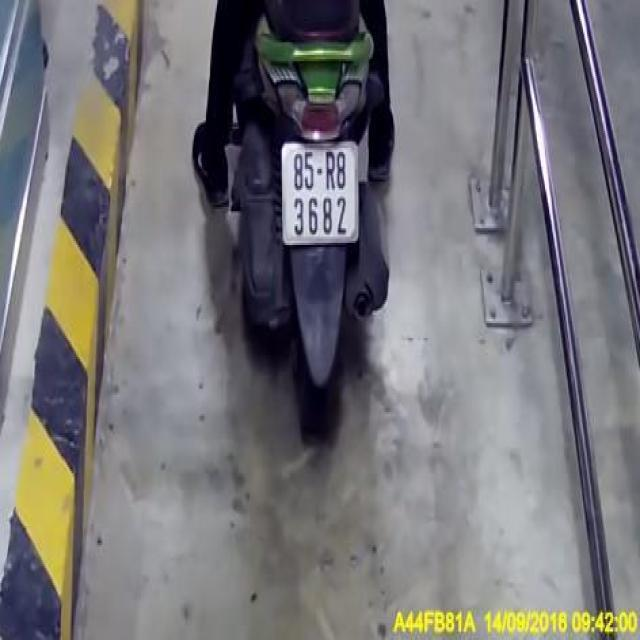bien_so: (278, 139, 358, 245)
